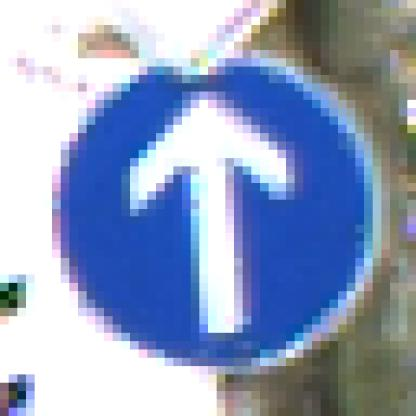AheadOnly: (44, 51, 374, 375)
